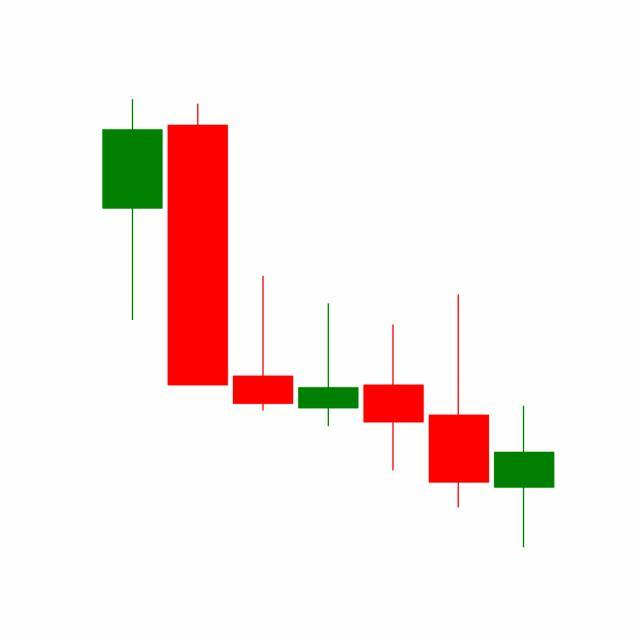Three Outside Up-Down: (295, 292, 492, 511)
